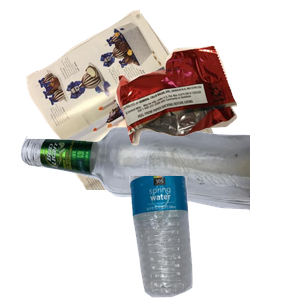glass: (18, 124, 258, 300)
paper: (24, 10, 235, 190)
plastic: (127, 176, 300, 300)
trash: (113, 43, 300, 181)
